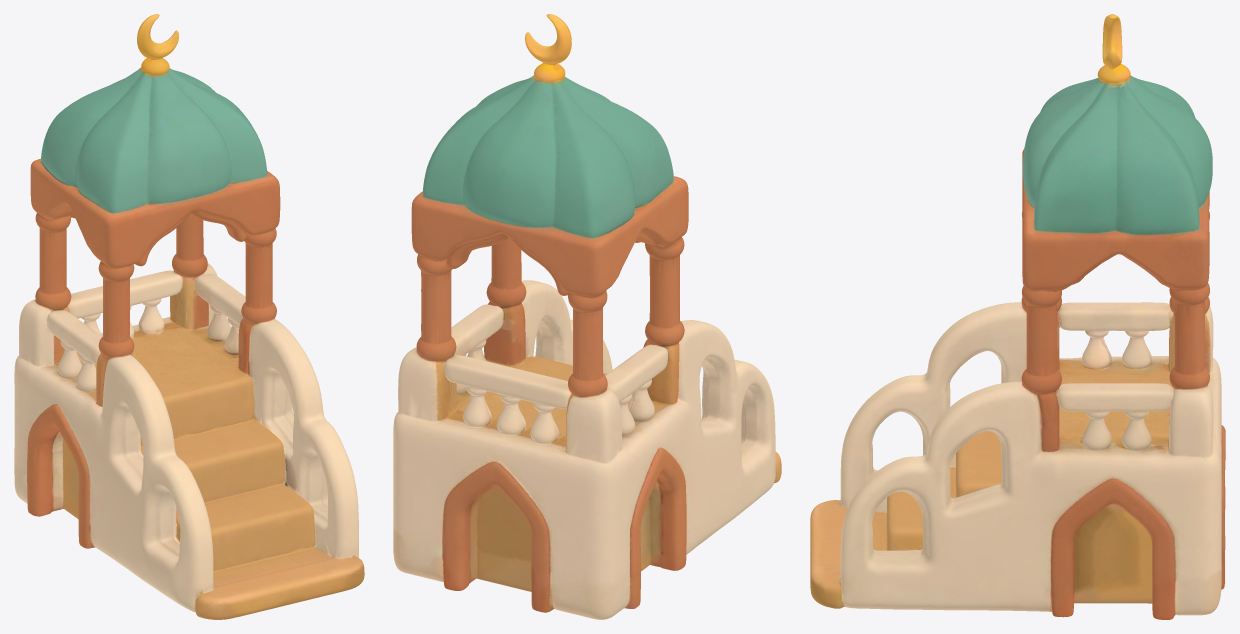
The model's file is minbar-variant-05-minimal-open.glb.
3 views of the same model, side by side, from view 1: azimuth 30°, elevation 25°; view 2: azimuth 150°, elevation 25°; view 3: azimuth 270°, elevation 25° (orthographic). The views are drawn at different scales.
Parts seen in each view (by area): view 1: mesh_node; view 2: mesh_node; view 3: mesh_node.
Part boxes in pixels (x1=…): mesh_node: x1=14, y1=14, x2=364, y2=619; mesh_node: x1=393, y1=14, x2=781, y2=619; mesh_node: x1=810, y1=14, x2=1225, y2=619.
Size of the model in its own units: 0.8319 by 1.9 by 1.3.
1 material, 1 textured.
